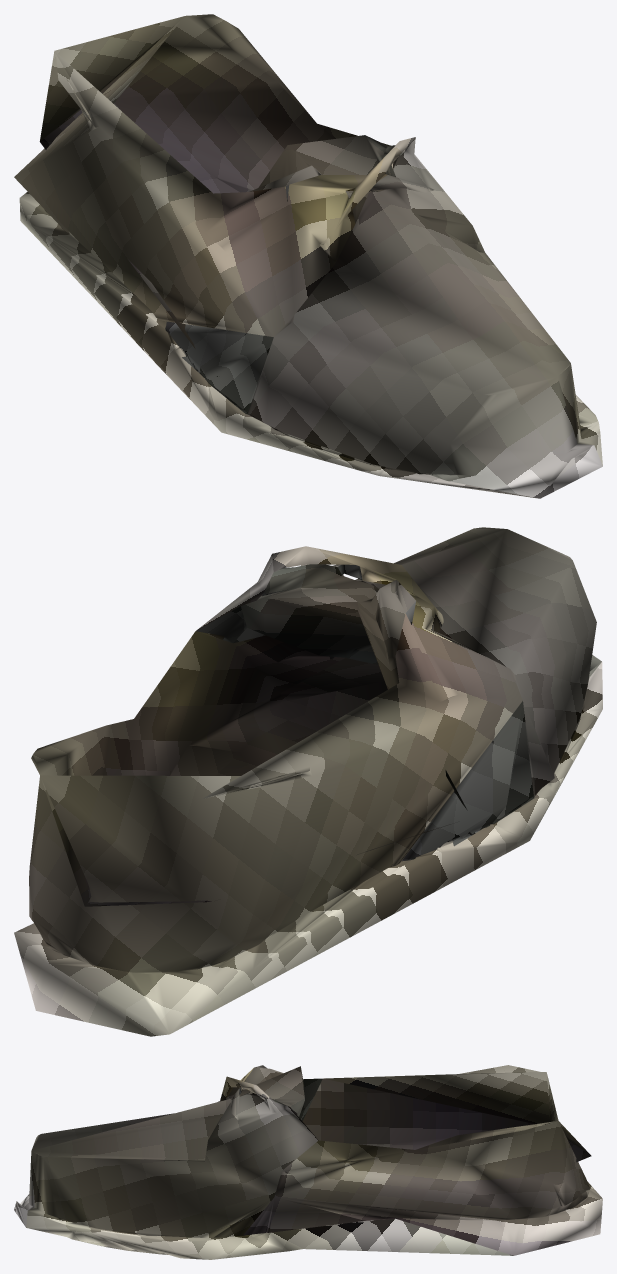
Rendered from Womens_Authentic_Original_Boat_Shoe_in_Classic_Brown_Leather_cJSCWiH7QmB-low.glb.
3 views of the same model, one above another, from view 1: azimuth 30°, elevation 25°; view 2: azimuth 150°, elevation 25°; view 3: azimuth 270°, elevation 25° (orthographic). The views are drawn at different scales.
Visible parts, largest first — view 1: Womens_Authentic_Original_Boat_Shoe_in_Classic_Brown_Leather; view 2: Womens_Authentic_Original_Boat_Shoe_in_Classic_Brown_Leather; view 3: Womens_Authentic_Original_Boat_Shoe_in_Classic_Brown_Leather.
Part boxes in pixels (box(x1,y1,x2,y2)): Womens_Authentic_Original_Boat_Shoe_in_Classic_Brown_Leather: box(14, 14, 602, 498); Womens_Authentic_Original_Boat_Shoe_in_Classic_Brown_Leather: box(14, 527, 602, 1036); Womens_Authentic_Original_Boat_Shoe_in_Classic_Brown_Leather: box(14, 1065, 602, 1259).
Size of the model in its own units: 0.0878 by 0.0706 by 0.2423.
Materials: 1 (1 with a texture image).
